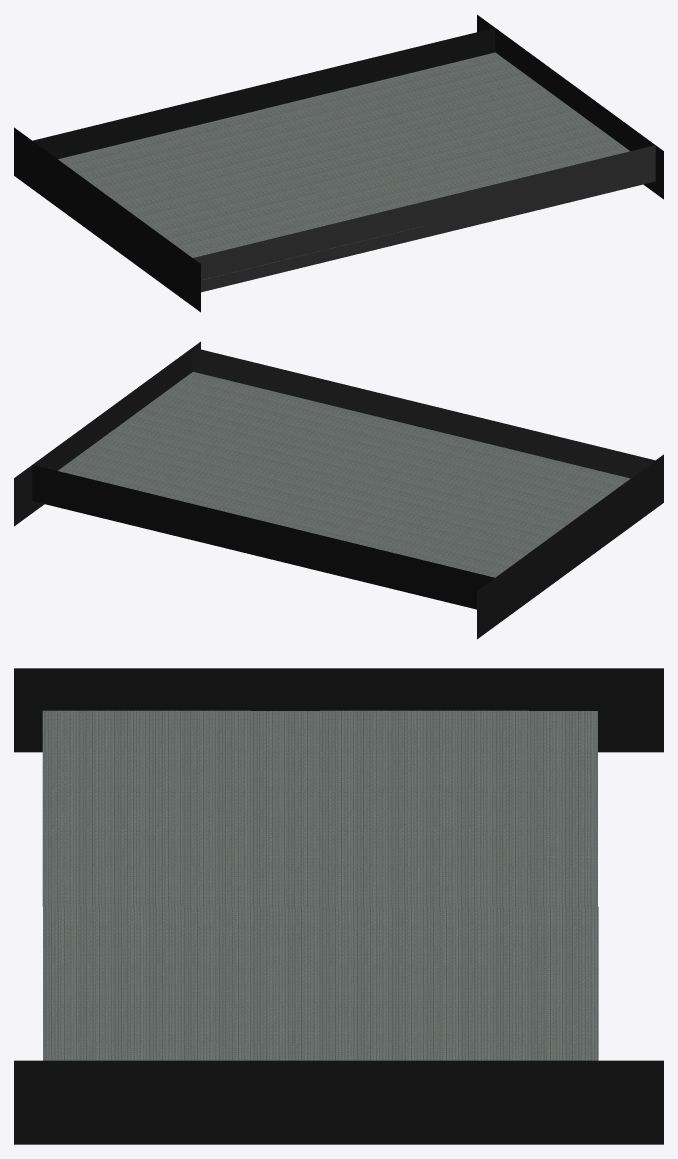
The model's file is env1.fbx.
The picture shows the model from 3 angles, top to bottom: view 1: azimuth 30°, elevation 25°; view 2: azimuth 150°, elevation 25°; view 3: azimuth 270°, elevation 25°; orthographic projection. The views are drawn at different scales.
Visible parts, largest first — view 1: Plane.002, Plane, Plane.001, Plane.004, Plane.003; view 2: Plane.002, Plane.001, Plane, Plane.004, Plane.003; view 3: Plane.002, Plane.003, Plane.004.
Boxes of the visible parts, x1,y1,x2,y2 form: Plane.002: (58,52,629,279); Plane: (193,145,655,292); Plane.001: (33,28,495,159); Plane.004: (14,127,200,312); Plane.003: (477,14,663,199); Plane.002: (58,372,630,577); Plane.001: (32,465,494,609); Plane: (192,347,655,478); Plane.004: (477,454,663,639); Plane.003: (14,341,200,526); Plane.002: (42,710,598,1060); Plane.003: (14,1060,663,1144); Plane.004: (14,668,663,752).
Bounding box in the file's own units: 8000 × 800 × 5600.
28 materials, 24 textured.
